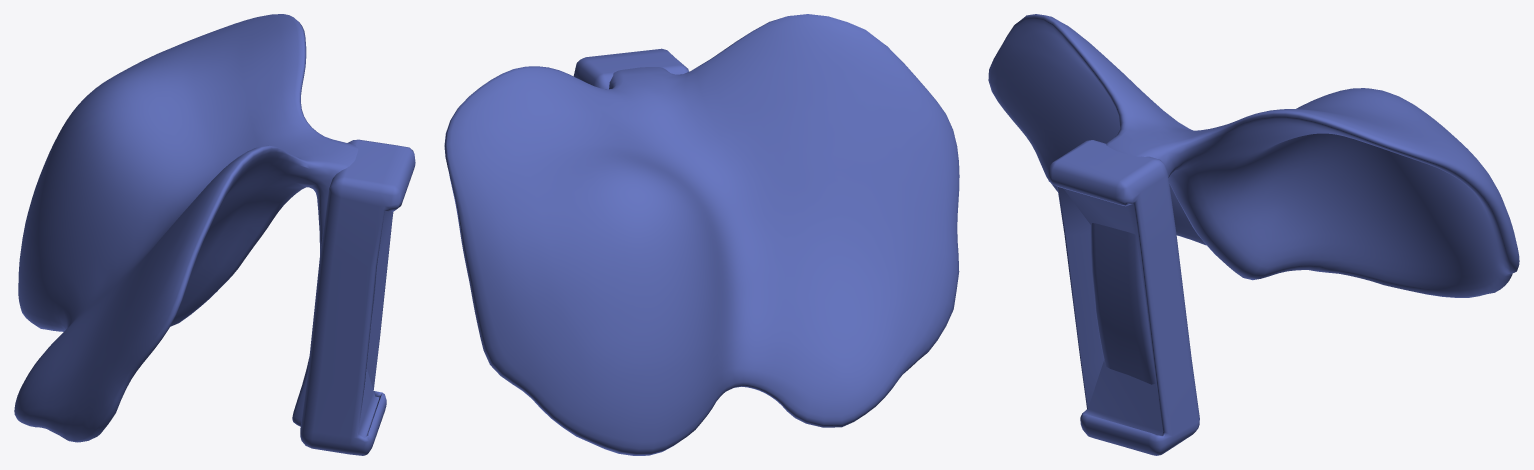
File: BR4_Spacers_BaguetteMetal.001.glb
The picture shows the model from 3 angles, left to right: view 1: azimuth 30°, elevation 25°; view 2: azimuth 150°, elevation 25°; view 3: azimuth 270°, elevation 25°; orthographic projection.
Visible parts, largest first — view 1: BR4_Spacers_BaguetteMetal.001; view 2: BR4_Spacers_BaguetteMetal.001; view 3: BR4_Spacers_BaguetteMetal.001.
Boxes of the visible parts, x1,y1,x2,y2 form: BR4_Spacers_BaguetteMetal.001: (14,14,415,455); BR4_Spacers_BaguetteMetal.001: (444,14,959,455); BR4_Spacers_BaguetteMetal.001: (988,14,1519,455).
Size of the model in its own units: 0.8469 by 0.8053 by 1.1.
